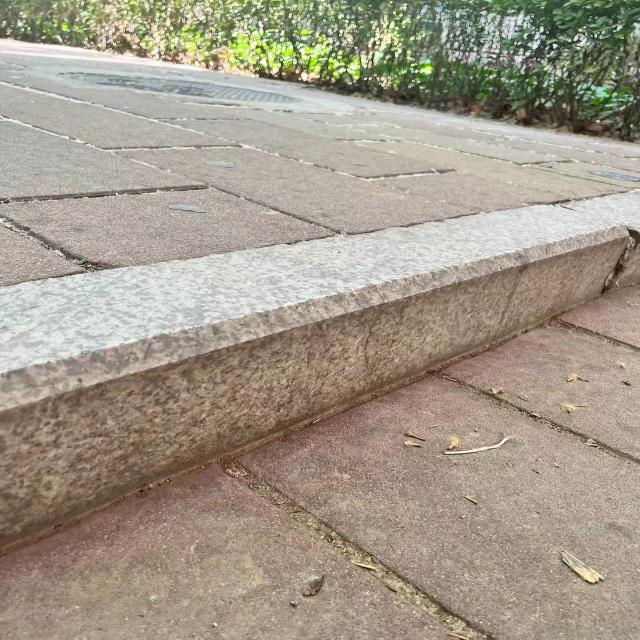curb: (2, 184, 640, 537)
